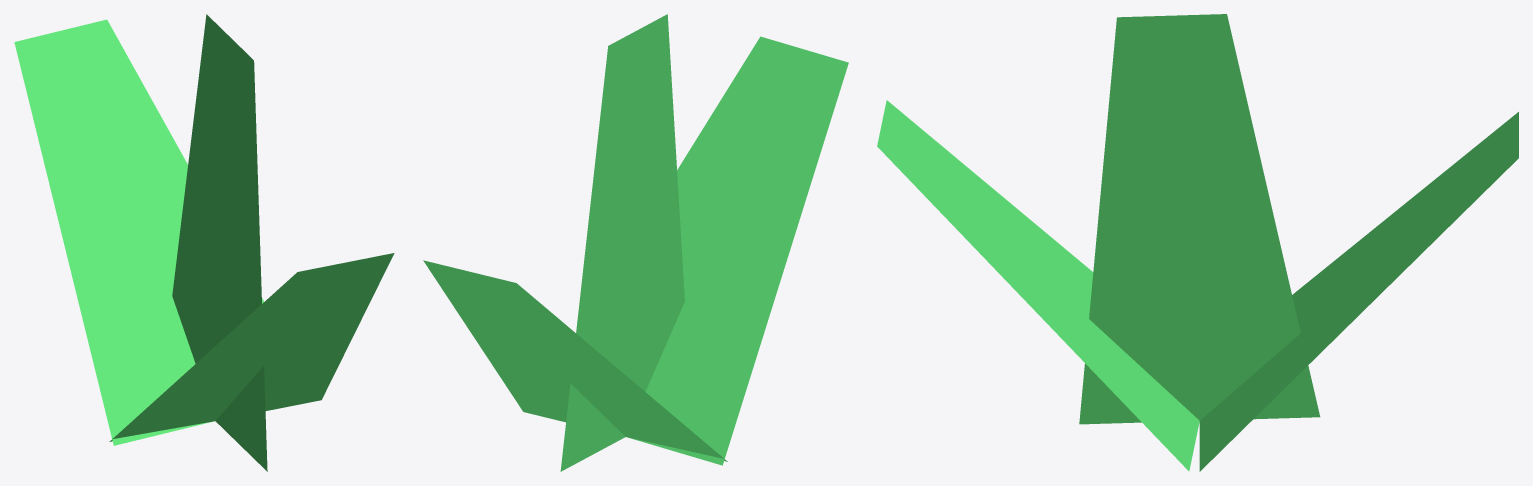
File: pot_leafs_base.glb
3 views of the same model, side by side, from view 1: azimuth 30°, elevation 25°; view 2: azimuth 150°, elevation 25°; view 3: azimuth 270°, elevation 25° (orthographic). The views are drawn at different scales.
Parts seen in each view (by area): view 1: Plane, Plane.002, Plane.001; view 2: Plane.001, Plane.002, Plane; view 3: Plane.002, Plane.001, Plane.
Boxes of the visible parts, <box> form: Plane: <box>14,19,263,445</box>; Plane.002: <box>172,14,267,471</box>; Plane.001: <box>109,253,394,441</box>; Plane.001: <box>627,36,848,465</box>; Plane.002: <box>560,14,684,471</box>; Plane: <box>423,260,727,461</box>; Plane.002: <box>1079,14,1320,424</box>; Plane.001: <box>877,100,1199,471</box>; Plane: <box>1199,112,1518,471</box>.
Bounding box in the file's own units: 0.7584 × 1.44 × 2.01.
